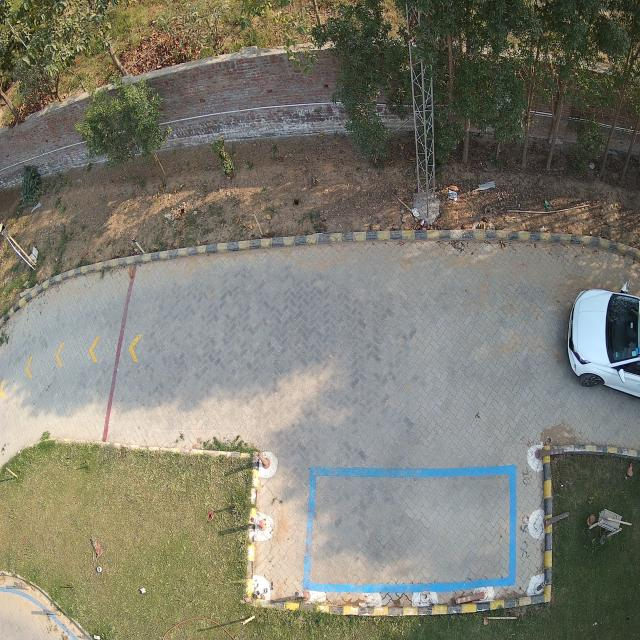car: (567, 289, 640, 401)
